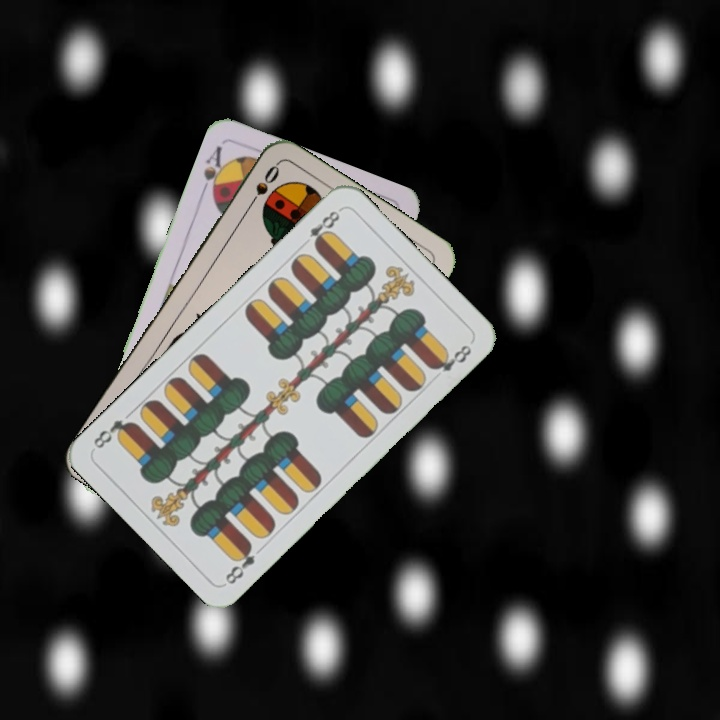E8: (297, 205, 344, 251), (221, 538, 258, 587)
SA: (196, 141, 232, 202)
SO: (242, 161, 283, 213)
